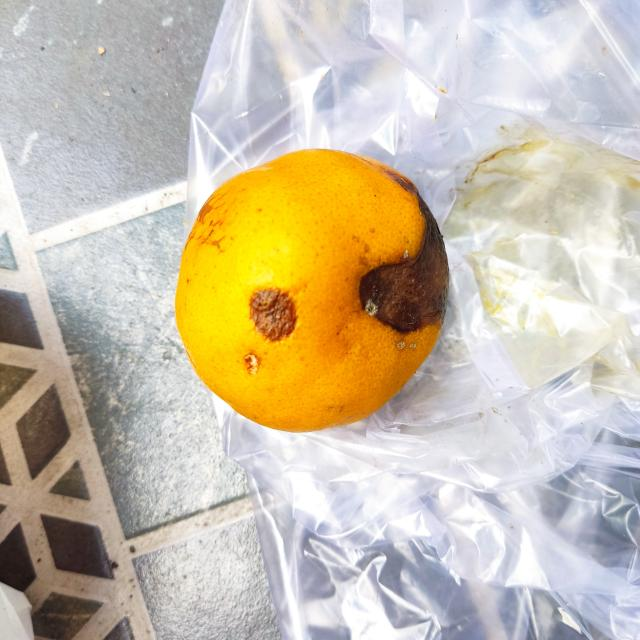orange: (169, 144, 452, 439)
